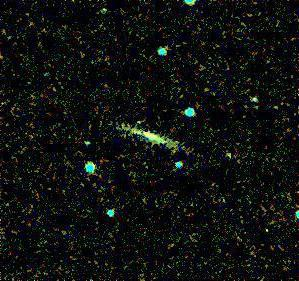star: (256, 214, 286, 244)
